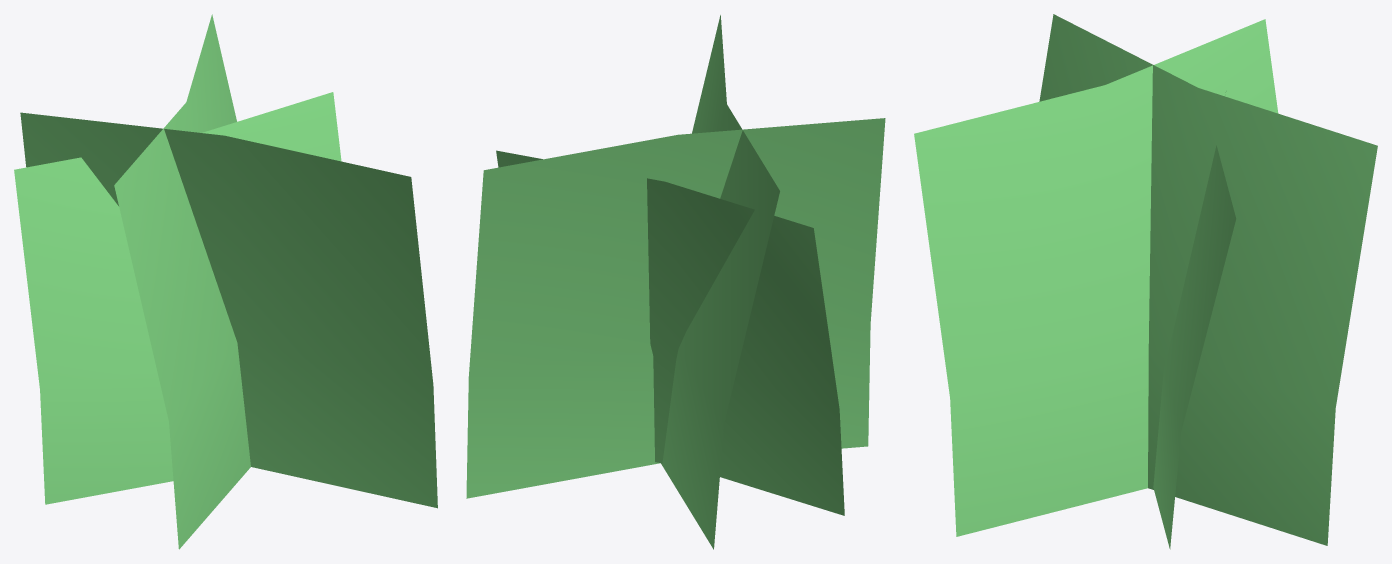
The model's file is GrassPlanes_a_TwoS_09.fbx.
The picture shows the model from 3 angles, left to right: view 1: azimuth 30°, elevation 25°; view 2: azimuth 150°, elevation 25°; view 3: azimuth 270°, elevation 25°; orthographic projection. The views are drawn at different scales.
Visible parts, largest first — view 1: GrassPlanes_a_TwoS_09; view 2: GrassPlanes_a_TwoS_09; view 3: GrassPlanes_a_TwoS_09.
Part boxes in pixels (x1=…): GrassPlanes_a_TwoS_09: x1=14, y1=14, x2=437, y2=549; GrassPlanes_a_TwoS_09: x1=466, y1=15, x2=885, y2=549; GrassPlanes_a_TwoS_09: x1=914, y1=14, x2=1377, y2=549.
Bounding box in the file's own units: 57.71 × 62.03 × 68.45.
